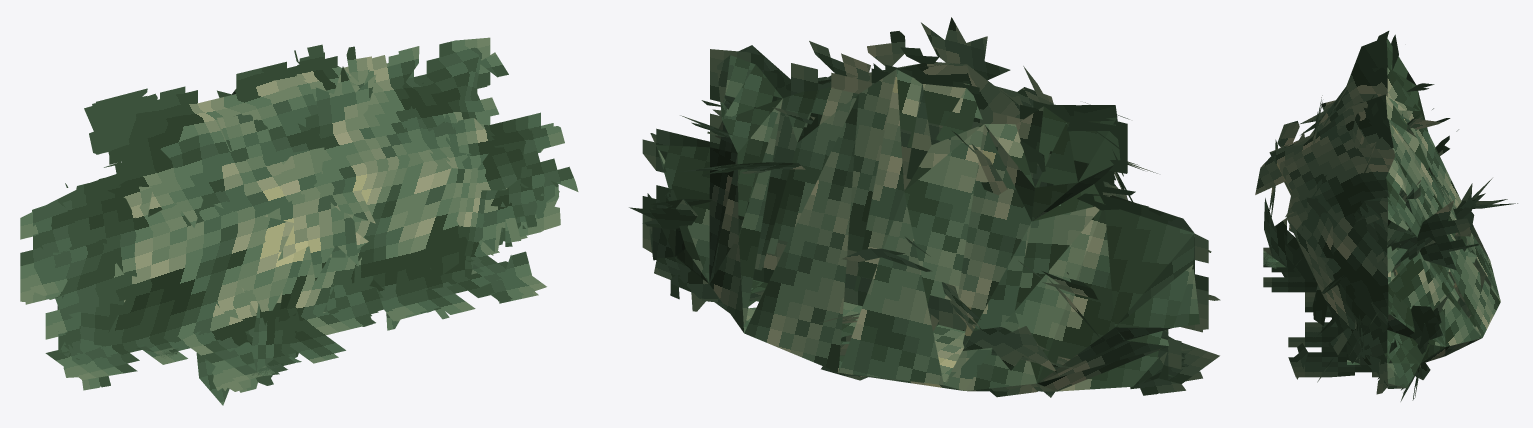
The model's file is leafy_1288_cut_far.glb.
3 views of the same model, side by side, from view 1: azimuth 30°, elevation 25°; view 2: azimuth 150°, elevation 25°; view 3: azimuth 270°, elevation 25° (orthographic). The views are drawn at different scales.
Visible parts, largest first — view 1: leafy_1288_cut_lod1; view 2: leafy_1288_cut_lod1; view 3: leafy_1288_cut_lod1.
Boxes of the visible parts, bbox=[...] form: leafy_1288_cut_lod1: bbox=[20, 37, 578, 405]; leafy_1288_cut_lod1: bbox=[629, 17, 1220, 397]; leafy_1288_cut_lod1: bbox=[1255, 31, 1517, 401].
Size of the model in its own units: 0.9345 by 0.5362 by 0.4651.
Materials: 1 (1 with a texture image).
